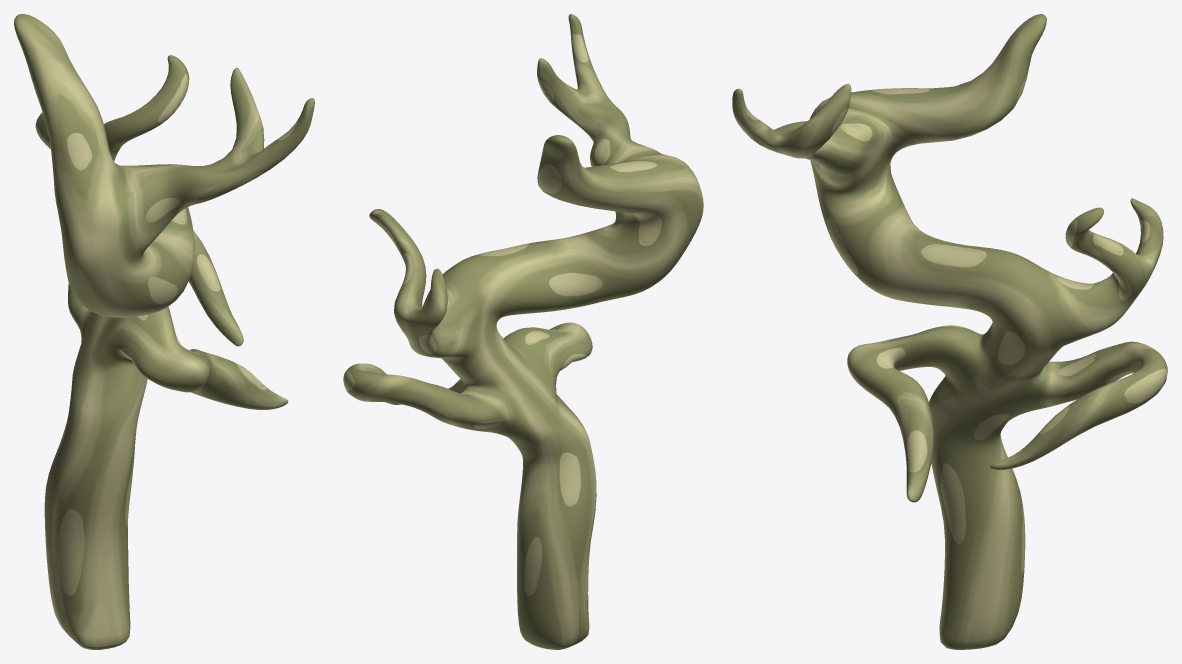
Rendered from StarTreeMain.fbx.
3 views of the same model, side by side, from view 1: azimuth 30°, elevation 25°; view 2: azimuth 150°, elevation 25°; view 3: azimuth 270°, elevation 25° (orthographic). The views are drawn at different scales.
Parts seen in each view (by area): view 1: StarTreeMain; view 2: StarTreeMain; view 3: StarTreeMain.
Part boxes in pixels (x1,y1,x2,y2): StarTreeMain: (14, 14, 314, 649); StarTreeMain: (343, 14, 703, 649); StarTreeMain: (732, 14, 1167, 649).
Size of the model in its own units: 679 by 1512 by 980.
1 material, 1 textured.
